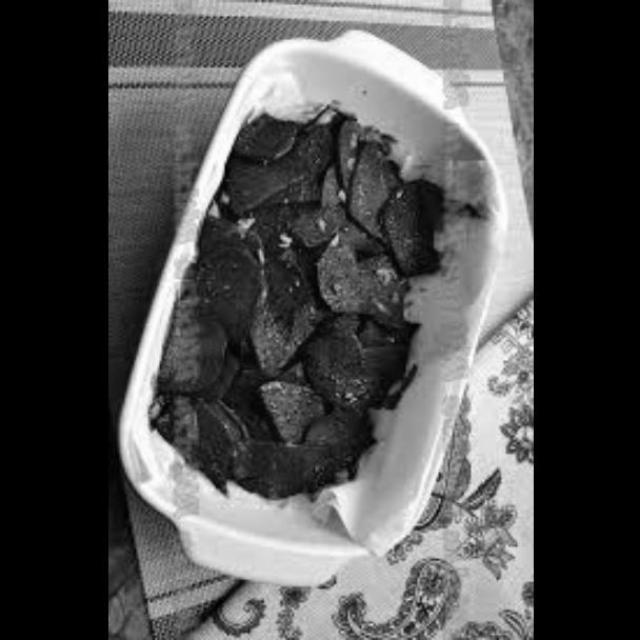sugar beet: (156, 142, 469, 494)
